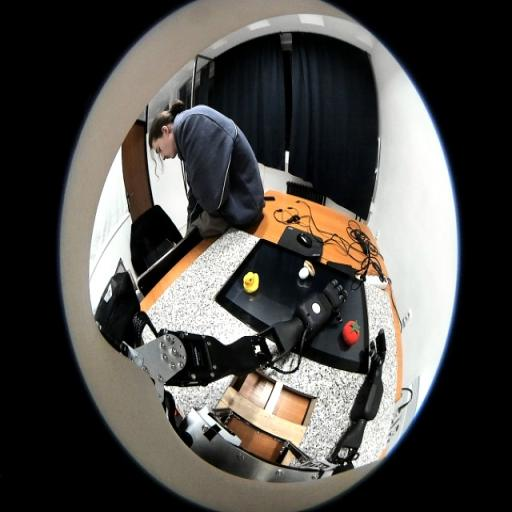Duck: (244, 272, 260, 293)
LeftHand: (324, 283, 340, 308)
Mushroom: (299, 260, 315, 279)
RightHand: (371, 353, 384, 369)
Tomato: (342, 320, 360, 345)
